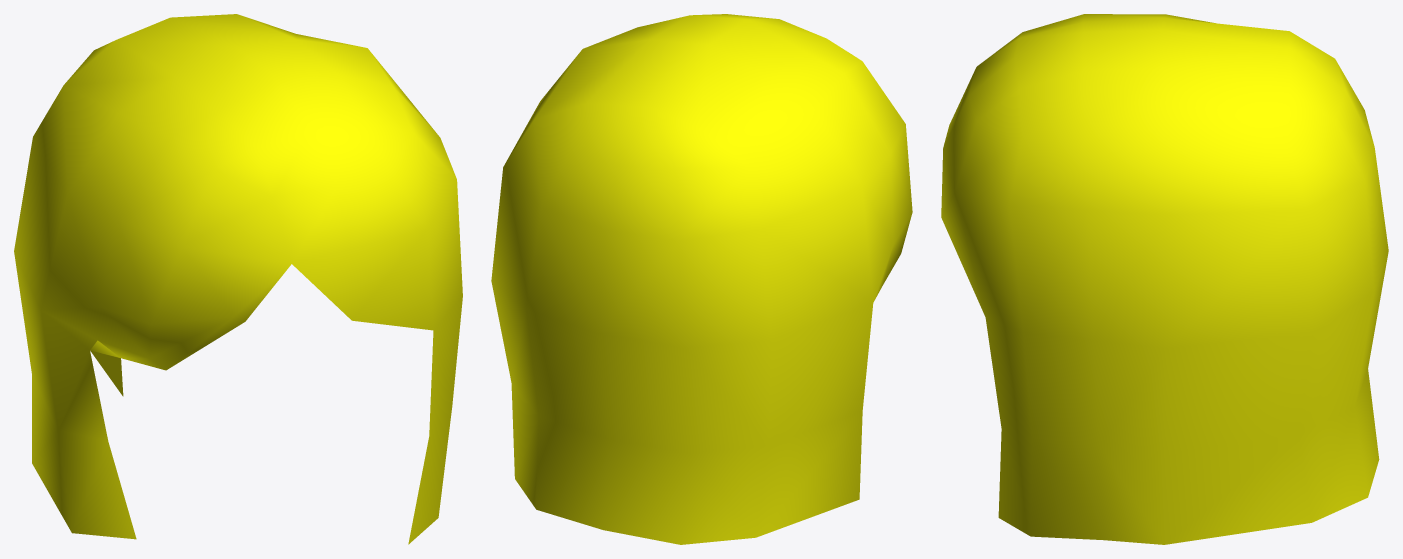
File: hair_F17.glb
3 renders of one model, left to right at view 1: azimuth 30°, elevation 25°; view 2: azimuth 150°, elevation 25°; view 3: azimuth 270°, elevation 25°, orthographic. The views are drawn at different scales.
Parts seen in each view (by area): view 1: NewPetraHair; view 2: NewPetraHair; view 3: NewPetraHair.
Part boxes in pixels (x1,y1,x2,y2): NewPetraHair: (14, 14, 462, 544); NewPetraHair: (491, 14, 912, 544); NewPetraHair: (941, 14, 1388, 544).
Bounding box in the file's own units: 0.6 × 0.7013 × 0.6382.
1 material, 1 textured.
